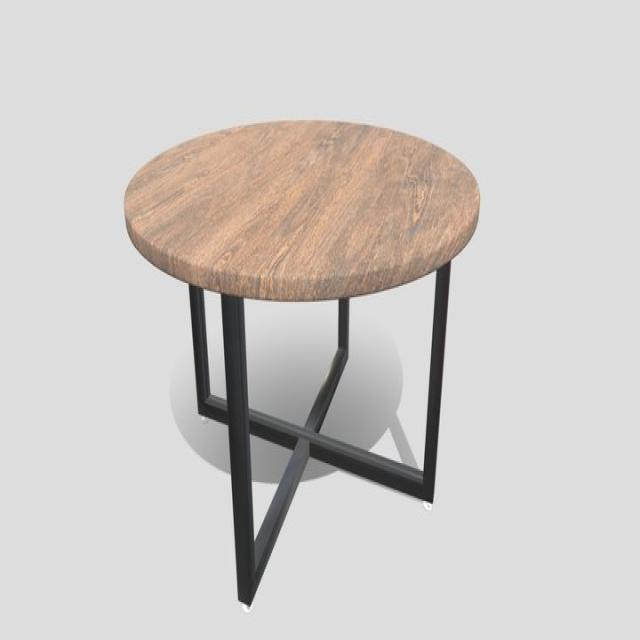table: (125, 119, 479, 604)
